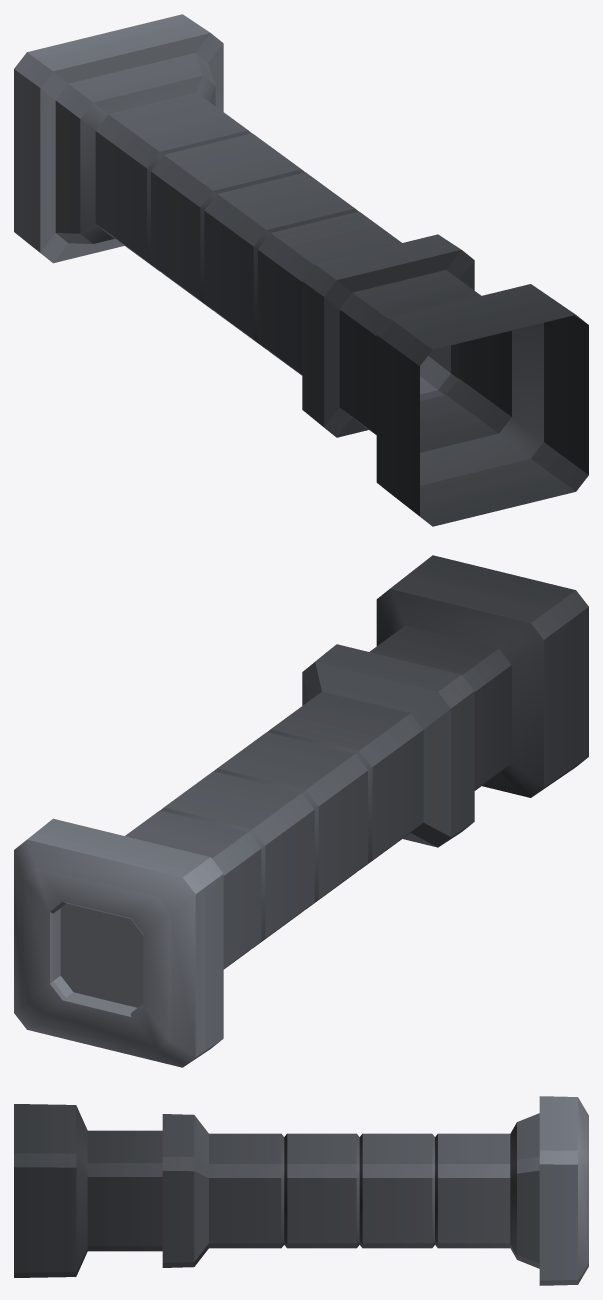
Rendered from Pillar 01.FBX.
3 views of the same model, one above another, from view 1: azimuth 30°, elevation 25°; view 2: azimuth 150°, elevation 25°; view 3: azimuth 270°, elevation 25° (orthographic). The views are drawn at different scales.
Parts seen in each view (by area): view 1: Pillar 01; view 2: Pillar 01; view 3: Pillar 01.
Part boxes in pixels (<box>): Pillar 01: <box>14,14,588,526</box>; Pillar 01: <box>14,555,588,1067</box>; Pillar 01: <box>14,1096,588,1285</box>.
Bounding box in the file's own units: 77.93 × 77.95 × 300.
